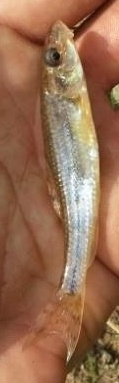Gobio gobio: (20, 20, 99, 363)
